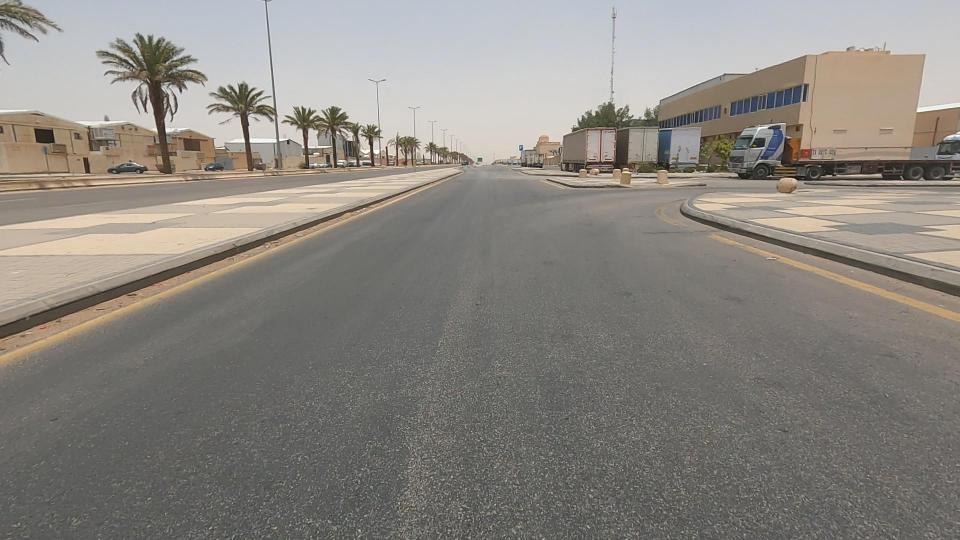BROKEN_SIGNAGE: (751, 162, 821, 216)
